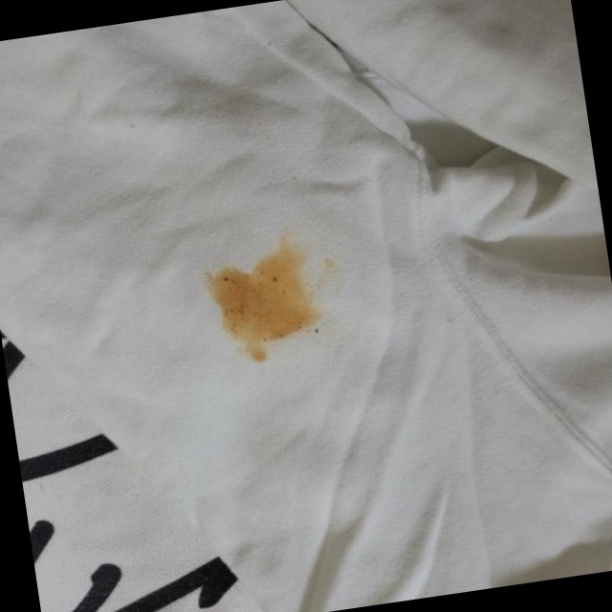kimchi: (197, 220, 360, 380)
